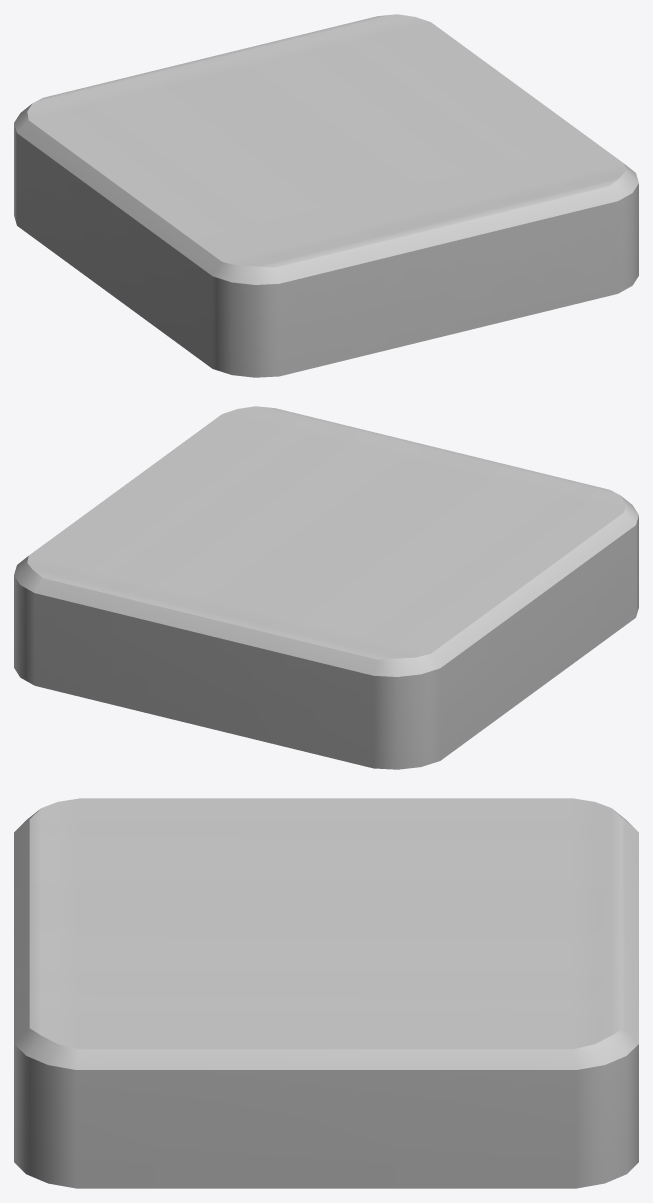
3 renders of one model, top to bottom at view 1: azimuth 30°, elevation 25°; view 2: azimuth 150°, elevation 25°; view 3: azimuth 270°, elevation 25°, orthographic. The views are drawn at different scales.
Parts seen in each view (by area): view 1: base; view 2: base; view 3: base.
Boxes of the visible parts, box(x1,y1,x2,y2) form: base: box(14, 14, 638, 377); base: box(14, 406, 638, 769); base: box(14, 798, 638, 1188).
Bounding box in the file's own units: 60 × 14.26 × 60.
